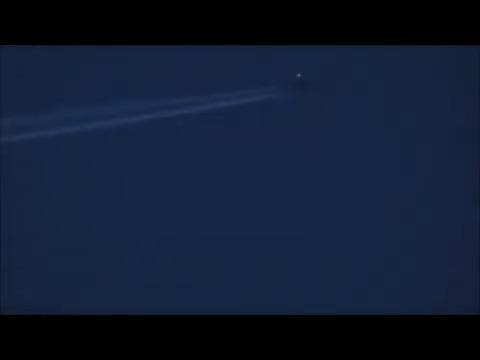Plane: (192, 62, 329, 101)
